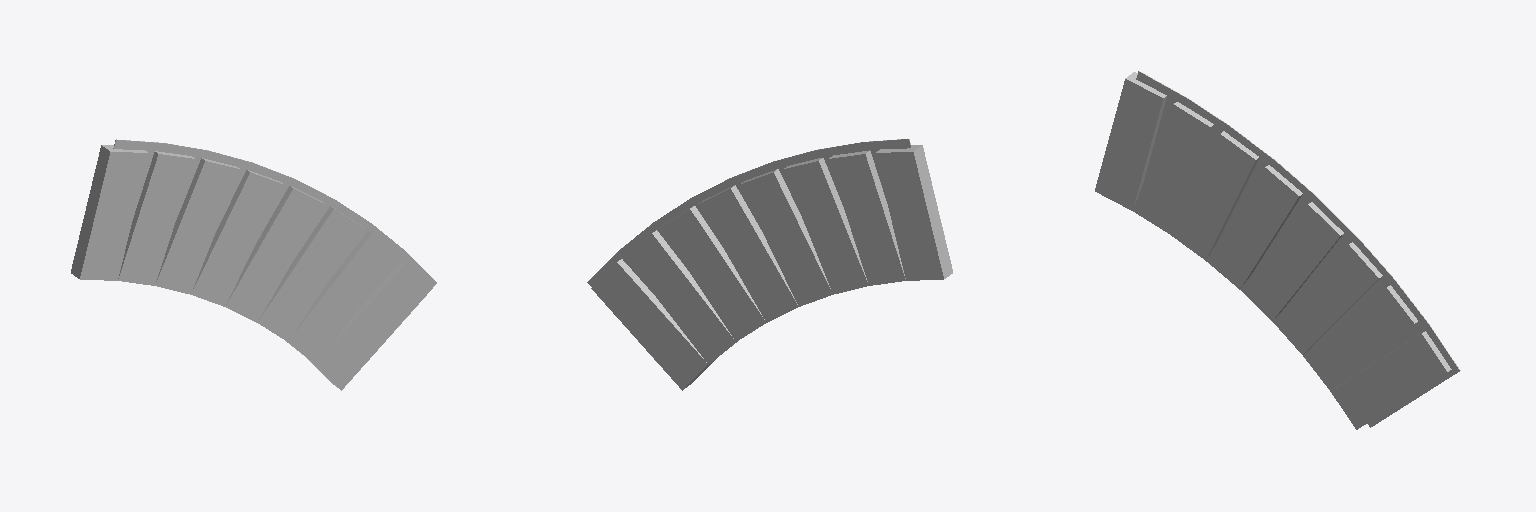
File: lime_mortar_orange_clay_brick_facade_segmental_arch_3_right_bottom.obj
3 views of the same model, side by side, from view 1: azimuth 30°, elevation 25°; view 2: azimuth 150°, elevation 25°; view 3: azimuth 330°, elevation 25° (orthographic).
Visible parts, largest first — view 1: brick.020, brick.013, brick.018, brick.019, brick.017, brick.016, brick.014, brick.015, cube.123, cube.124, cube.125, cube.129 (+1 smaller); view 2: brick.020, brick.013, brick.019, brick.018, brick.017, brick.016, brick.015, brick.014, cube.123, cube.124; view 3: brick.020, brick.019, brick.018, brick.017, brick.013, brick.016, brick.015, brick.014, cube.129, cube.130, cube.127, cube.126 (+4 smaller).
Boxes of the visible parts, box(x1,y1,x2,y2) form: brick.020: box(71, 145, 148, 280); brick.013: box(308, 260, 432, 390); brick.018: box(155, 158, 240, 294); brick.019: box(118, 151, 195, 285); brick.017: box(191, 170, 283, 306); brick.016: box(225, 186, 325, 322); brick.014: box(286, 231, 398, 363); brick.015: box(258, 206, 363, 341); cube.123: box(113, 139, 162, 220); cube.124: box(161, 143, 207, 219); cube.125: box(205, 150, 251, 228); cube.129: box(328, 223, 405, 305); brick.020: box(875, 145, 952, 280); brick.013: box(591, 259, 715, 390); brick.019: box(828, 150, 905, 285); brick.018: box(783, 158, 868, 294); brick.017: box(740, 169, 832, 306); brick.016: box(698, 185, 798, 322); brick.015: box(660, 205, 765, 341); brick.014: box(625, 230, 737, 363); cube.123: box(862, 139, 911, 200); cube.124: box(816, 142, 864, 204); brick.020: box(1095, 72, 1166, 210); brick.019: box(1133, 102, 1213, 233); brick.018: box(1170, 131, 1259, 260); brick.017: box(1206, 165, 1302, 289); brick.013: box(1330, 331, 1451, 429); brick.016: box(1240, 202, 1343, 320); brick.015: box(1272, 242, 1382, 354); brick.014: box(1303, 285, 1417, 390); cube.129: box(1312, 279, 1428, 383); cube.130: box(1367, 324, 1460, 427); cube.127: box(1283, 197, 1356, 309); cube.126: box(1252, 160, 1316, 273).
Size of the model in its own units: 1.43 by 1.14 by 0.0633.